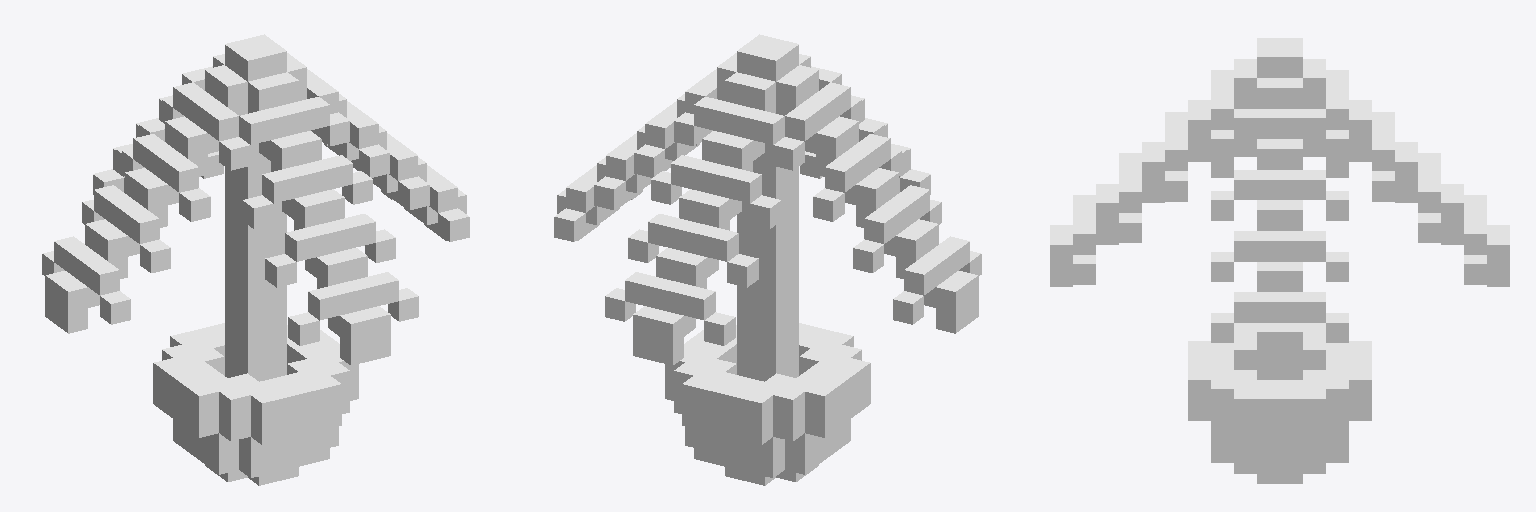
File: Plant_Tall_2.obj
The picture shows the model from 3 angles: view 1: azimuth 30°, elevation 25°; view 2: azimuth 150°, elevation 25°; view 3: azimuth 270°, elevation 25°; orthographic projection.
Parts seen in each view (by area): view 1: Plant_Tall_2; view 2: Plant_Tall_2; view 3: Plant_Tall_2.
Boxes of the visible parts, x1=… form: Plant_Tall_2: x1=42, y1=34, x2=469, y2=485; Plant_Tall_2: x1=554, y1=34, x2=981, y2=485; Plant_Tall_2: x1=1050, y1=38, x2=1509, y2=483.
Bounding box in the file's own units: 20 × 20 × 20.